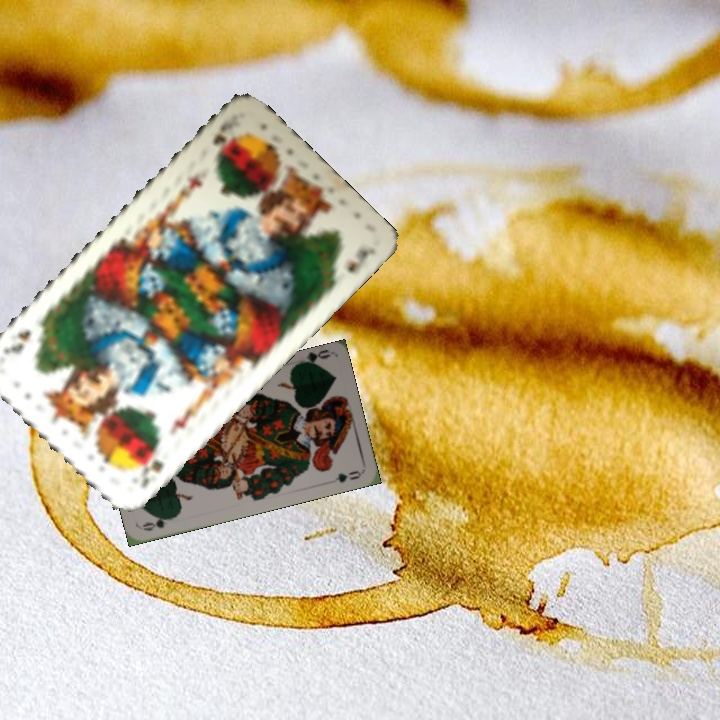GO: (292, 347, 332, 369), (139, 512, 178, 534)
SK: (137, 446, 167, 492), (208, 117, 236, 157)
